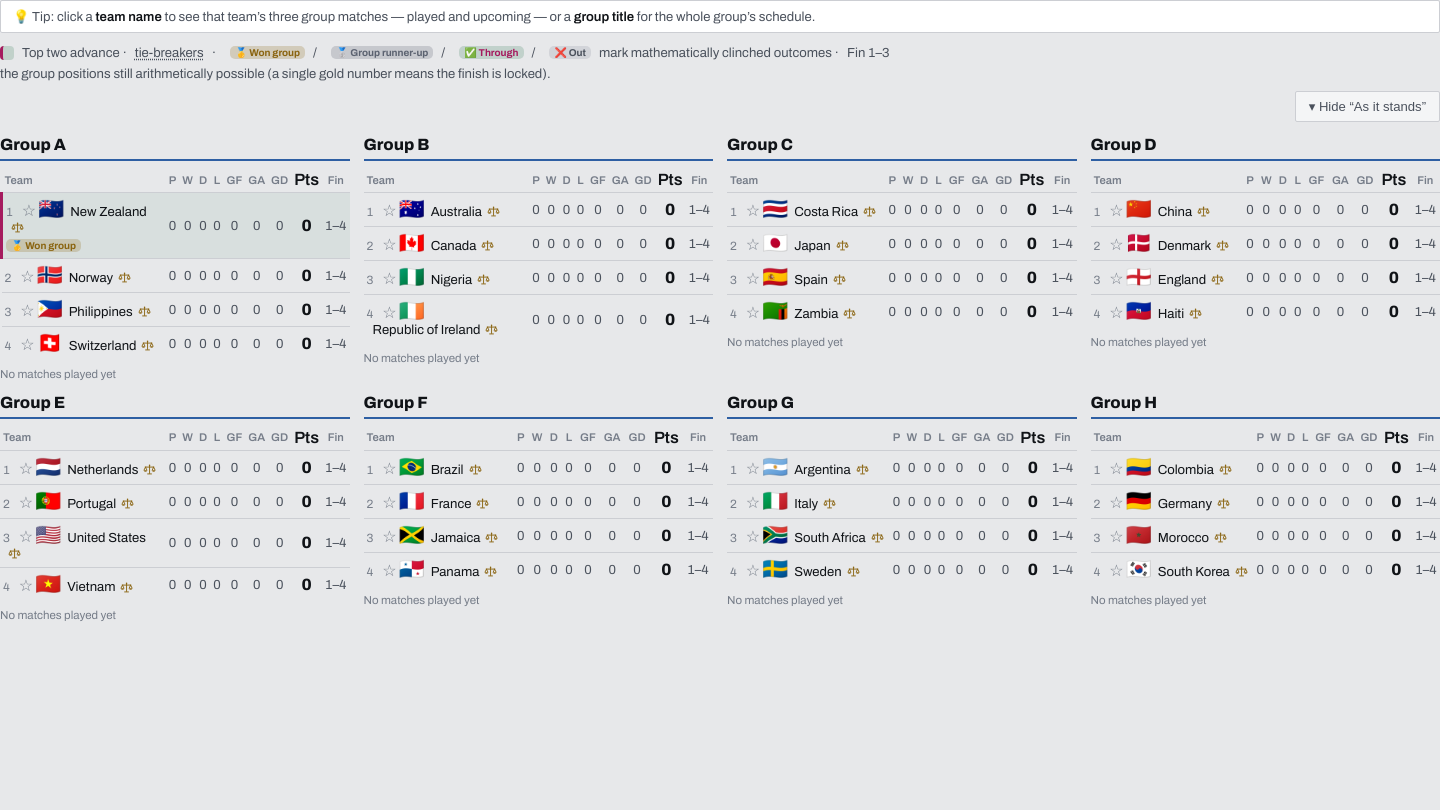
Test: Group games pop-up › shows the round-of-16 matchup for a team that has clinched a place
The image size is (1440, 810).
Click the button "New Zealand": (108, 212) [70,204,147,220]
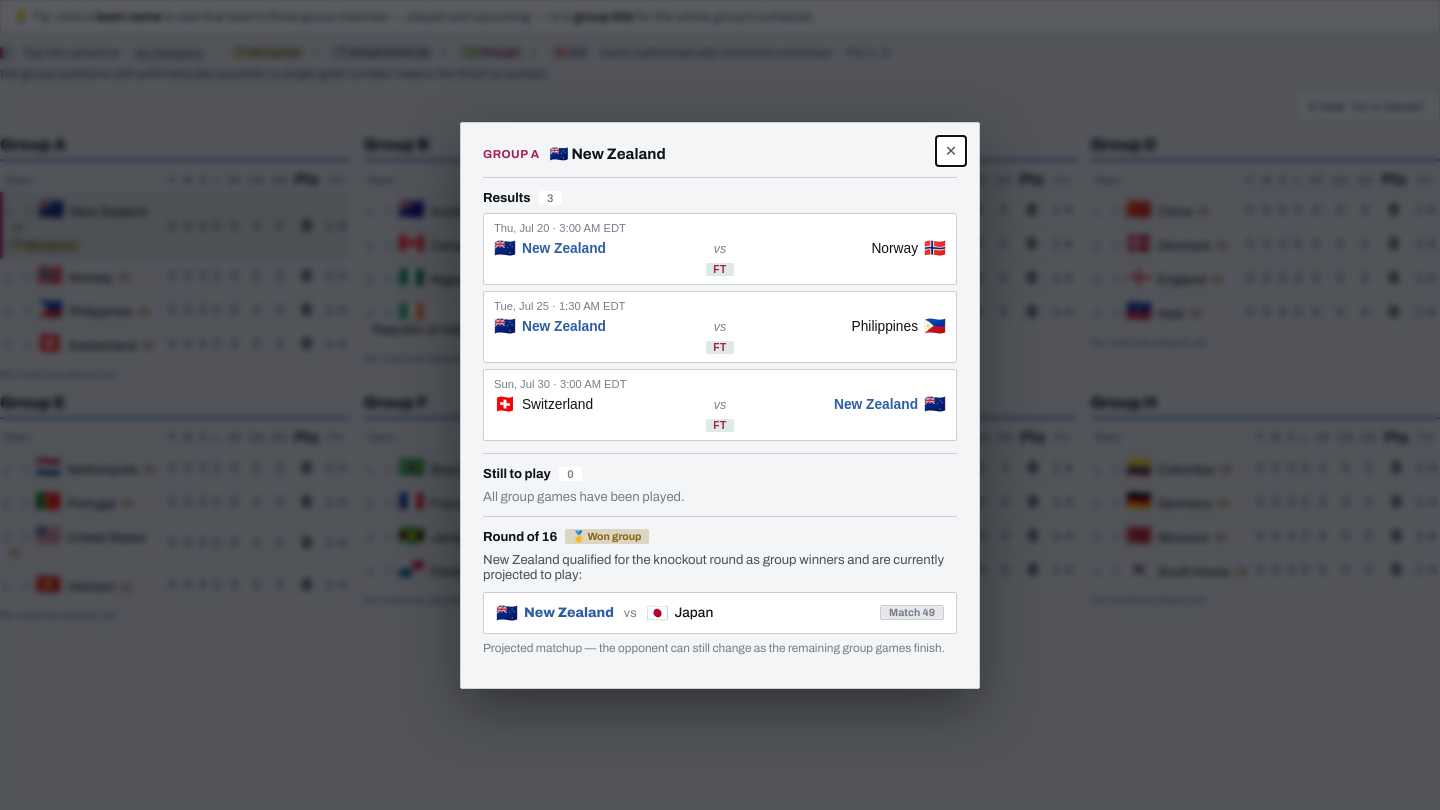
Check: the element with class "gg-knockout" is shown, box [483,516,957,654]
Check: the element with class "gg-knockout" shows "Round of 16", box [483,528,557,544]
Check: the element with class "gg-knockout" shows "qualified for the knockout round", box [560,552,746,566]
